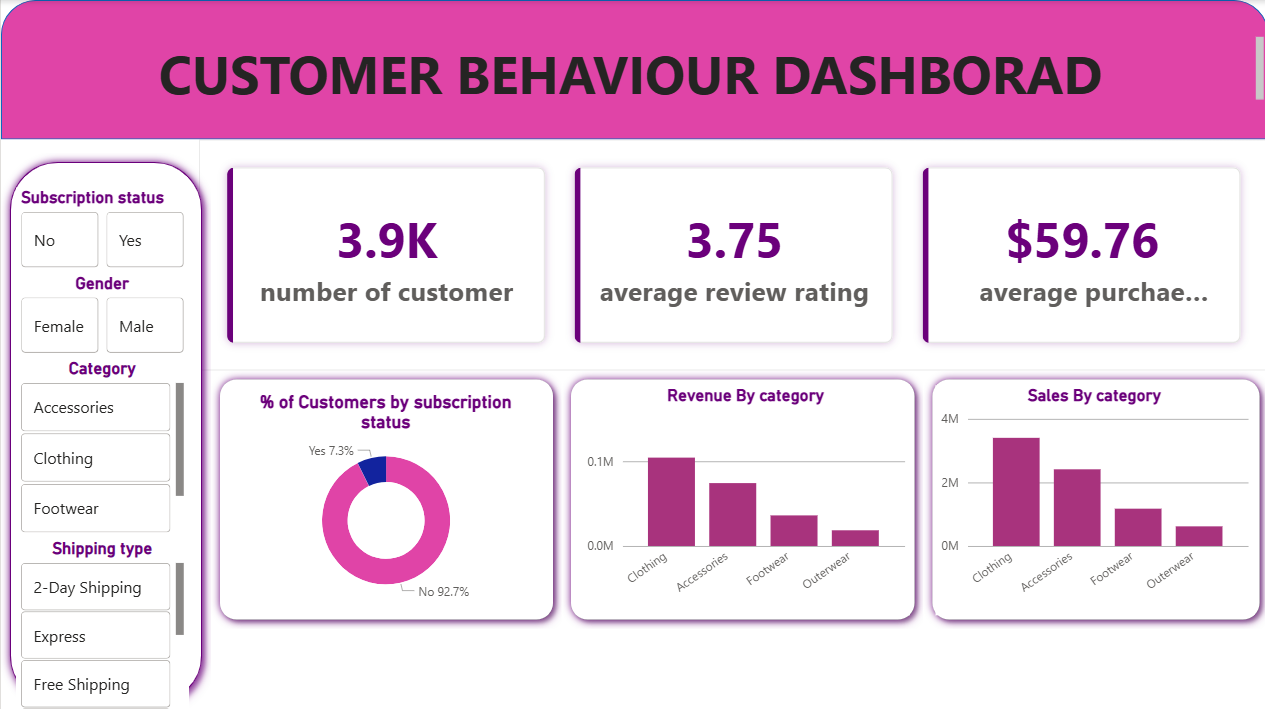

Layout of this report page (visuals, bound fields, positions):
{"tool":"powerbi","page":{"name":"Page 1","canvas":[1280,720],"ordinal":0},"visuals":[{"type":"cardVisual","fields":{"Data":["public customer.number of customer","public customer.average review rating","public customer.average purchae amount"]},"box":[199.9,140.8,1079.6,233.2],"z":0},{"type":"shape","box":[0,0,1279.5,140.8],"z":1000},{"type":"textbox","box":[0,31.8,1279.5,77.2],"z":2000},{"type":"shape","box":[212,374,354.3,260.4],"z":3000},{"type":"donutChart","title":"% of Customers by subscription status","fields":{"Category":["public customer.subscription_status"],"Y":["Sum(public customer.customer_id)"]},"box":[230.2,395.2,316.5,219.6],"z":4000},{"type":"shape","box":[566.3,374,364.9,260.4],"z":5000},{"type":"shape","box":[931.2,374,348.3,260.4],"z":6000},{"type":"clusteredColumnChart","title":"Revenue By category","fields":{"Y":["Sum(public customer.purchase_amount)"],"Category":["public customer.category"]},"box":[586,389.2,331.6,231.7],"z":7000},{"type":"clusteredColumnChart","title":"Sales By category","fields":{"Category":["public customer.category"],"Y":["Sum(public customer.customer_id)"]},"box":[943.3,389.2,321,231.7],"z":8000},{"type":"shape","box":[0,154.4,212,564.8],"z":9000},{"type":"advancedSlicerVisual","title":"Subscription status","fields":{"Values":["public customer.subscription_status"]},"box":[15.1,189.3,174.1,86.3],"z":10000},{"type":"advancedSlicerVisual","title":"Gender","fields":{"Values":["public customer.gender"]},"box":[15.1,275.6,174.1,86.3],"z":10001},{"type":"advancedSlicerVisual","title":"Category","fields":{"Values":["public customer.category"]},"box":[15.1,361.9,174.1,181.7],"z":10002},{"type":"advancedSlicerVisual","title":"Shipping type","fields":{"Values":["public customer.shipping_type"]},"box":[15.1,543.6,174.1,175.6],"z":10003}]}

Visuals, with their boxes in screenshot pixels (x1, y1, x2, y2), scaled from the page's 1280x720 canvas onto the 1265x709 screenshot:
cardVisual - public customer.number of customer x public customer.average review rating: 198/139/1264/368
shape: 0/0/1264/139
textbox: 0/31/1264/107
shape: 210/368/560/625
"% of Customers by subscription status" donutChart: 228/389/540/605
shape: 560/368/920/625
shape: 920/368/1264/625
"Revenue By category" clusteredColumnChart: 579/383/907/611
"Sales By category" clusteredColumnChart: 932/383/1249/611
shape: 0/152/210/708
"Subscription status" advancedSlicerVisual: 15/186/187/271
"Gender" advancedSlicerVisual: 15/271/187/356
"Category" advancedSlicerVisual: 15/356/187/535
"Shipping type" advancedSlicerVisual: 15/535/187/708
